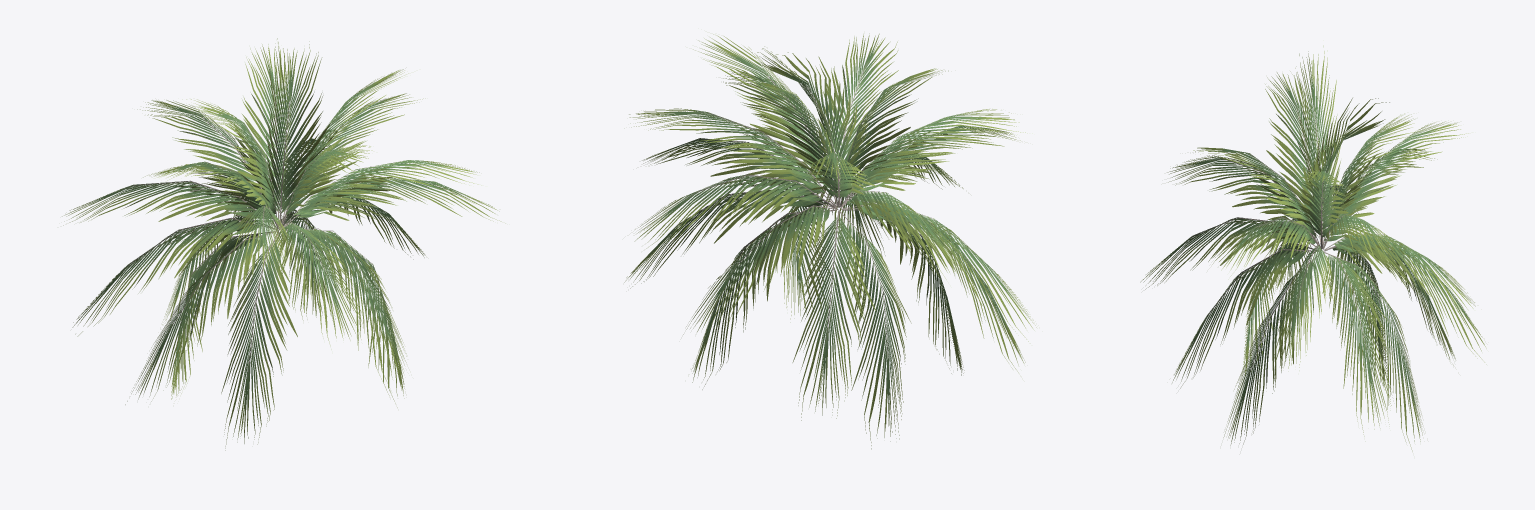
File: m_palm_p2_6_leaf_0.001_lev2.glb
3 renders of one model, left to right at view 1: azimuth 30°, elevation 25°; view 2: azimuth 150°, elevation 25°; view 3: azimuth 270°, elevation 25°, orthographic. The views are drawn at different scales.
Visible parts, largest first — view 1: m_palm_p2_6_leaf_0.001_lev2; view 2: m_palm_p2_6_leaf_0.001_lev2; view 3: m_palm_p2_6_leaf_0.001_lev2.
Boxes of the visible parts, <box> form: m_palm_p2_6_leaf_0.001_lev2: <box>62,38,505,450</box>; m_palm_p2_6_leaf_0.001_lev2: <box>624,33,1036,449</box>; m_palm_p2_6_leaf_0.001_lev2: <box>1140,45,1486,451</box>.
Size of the model in its own units: 4.16 by 3.21 by 3.07.
1 material, 1 textured.
